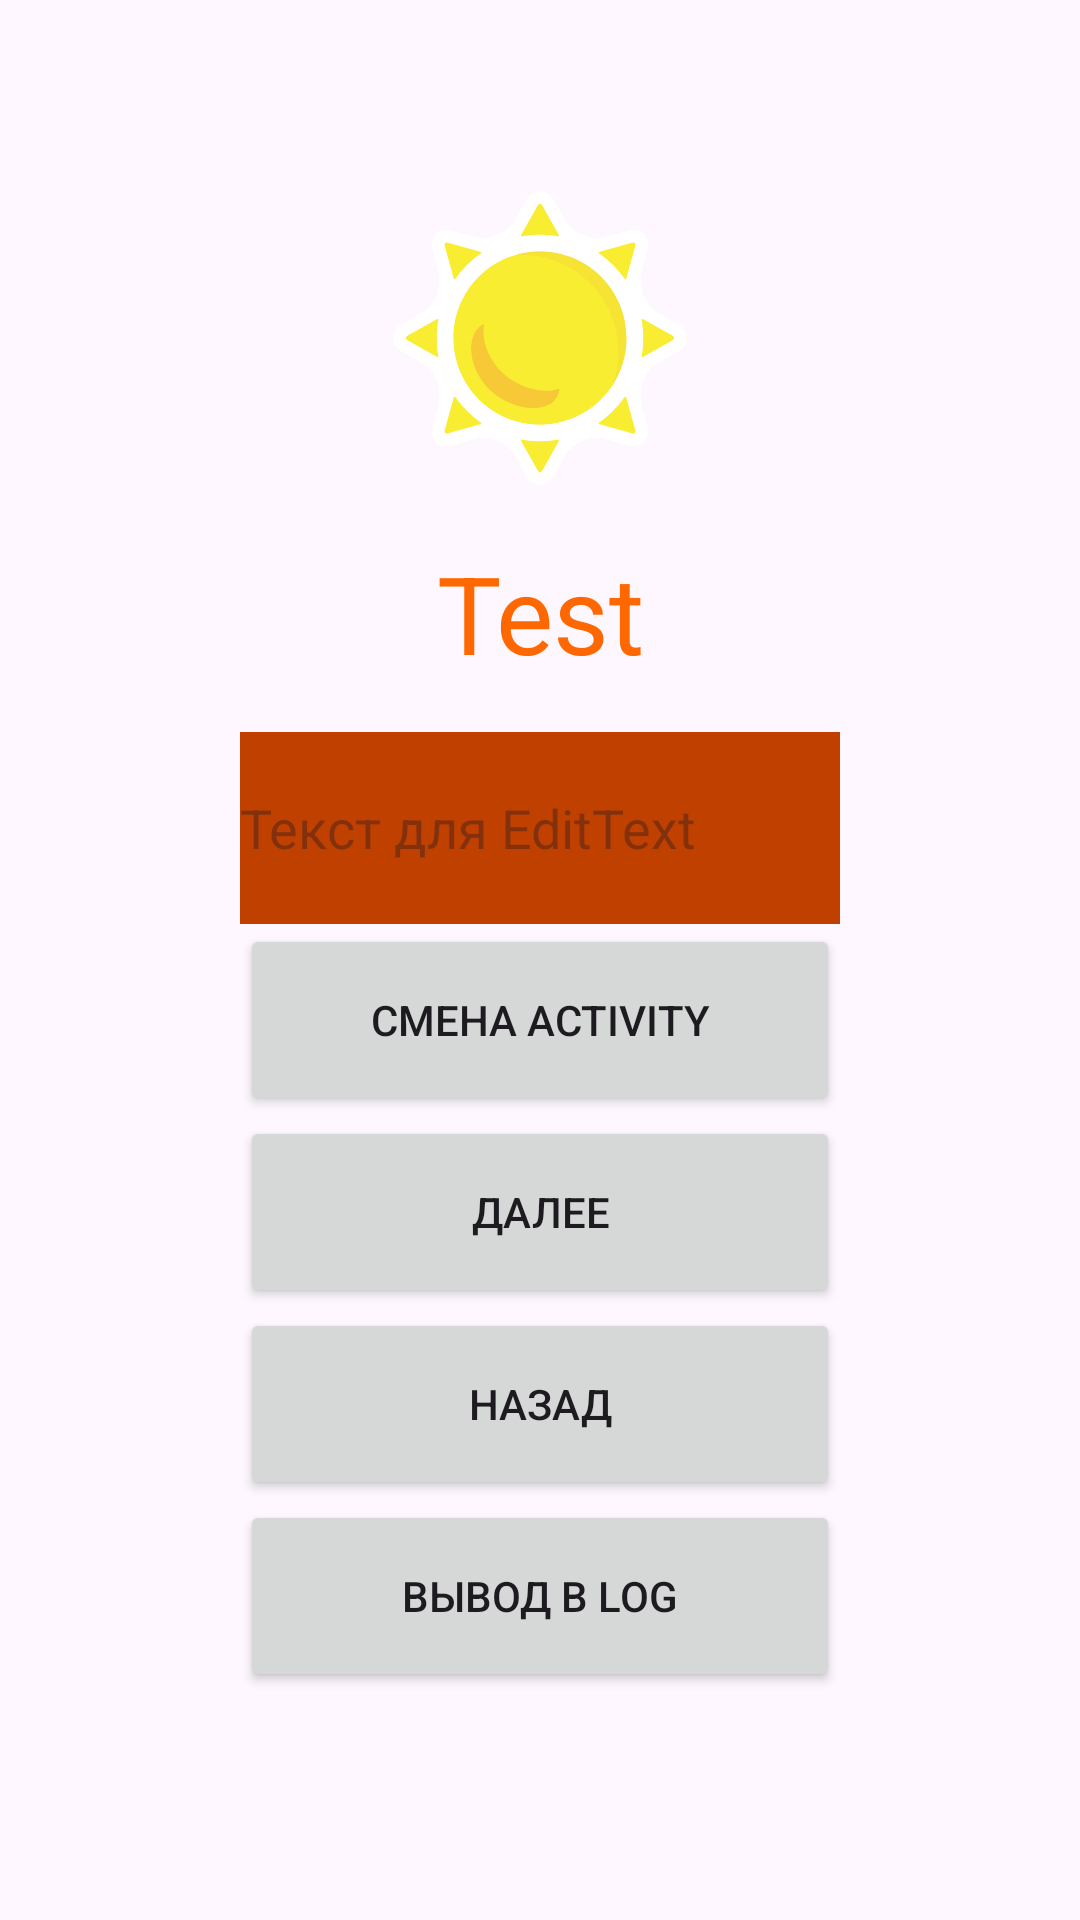

Screen size 1080w x 1920h. Icon name, then its box in pixels as (x1, y1, x2, y2):
solnishko: (405, 204, 674, 472)
